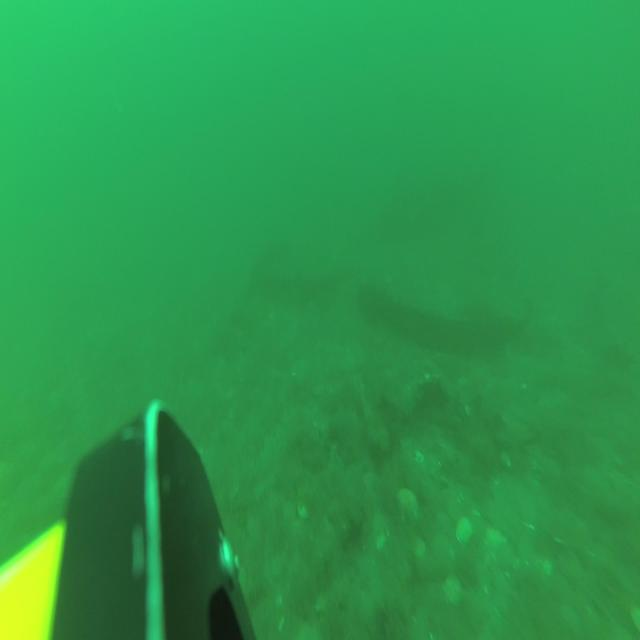scallop: (494, 471, 536, 533), (501, 404, 538, 446), (398, 486, 420, 524), (442, 572, 462, 608), (456, 514, 476, 546), (486, 526, 508, 554)
